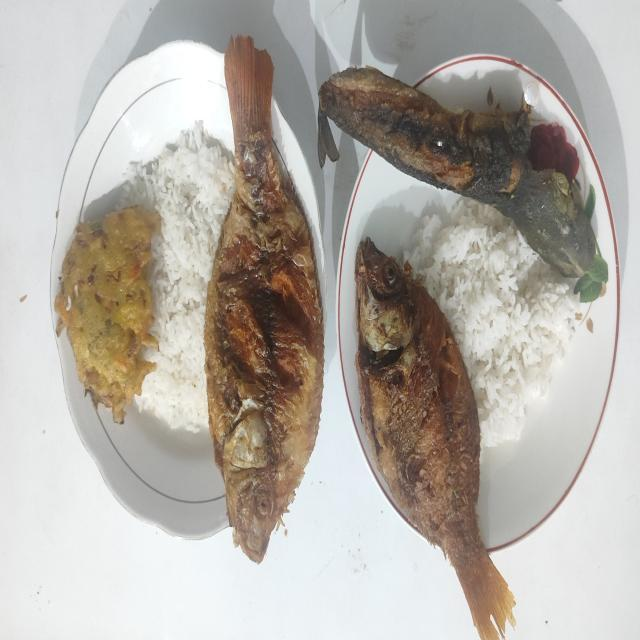ikan_mujair: (354, 238, 516, 640), (204, 35, 324, 562)
nasi_putih: (395, 194, 579, 447), (122, 121, 235, 432)
